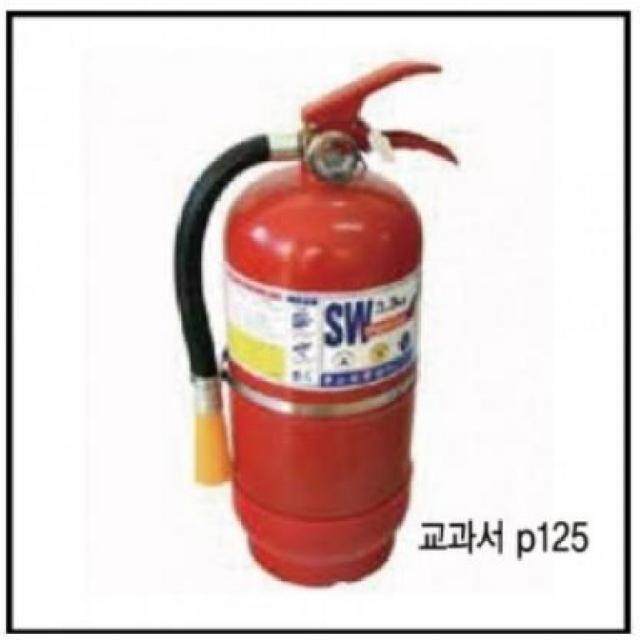fire extinguisher: (172, 57, 459, 588)
